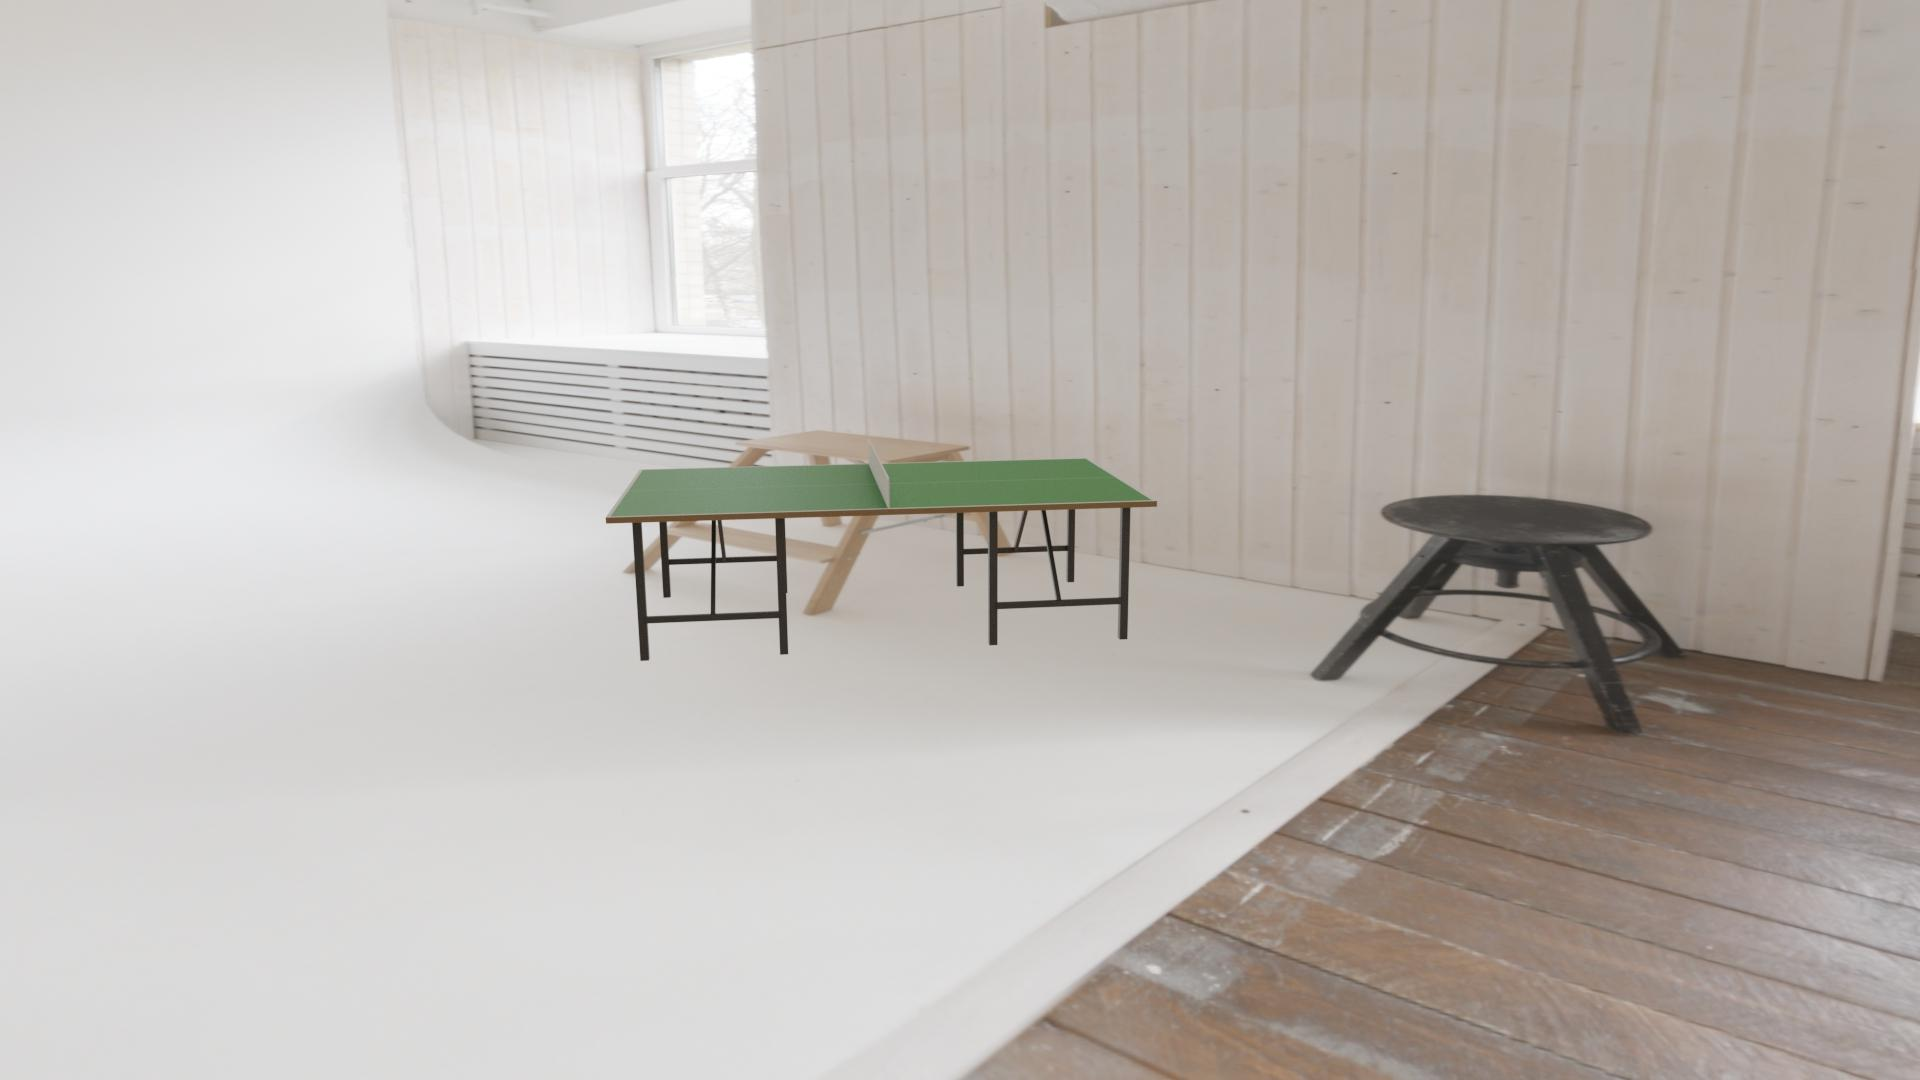table: (611, 459, 1153, 517)
